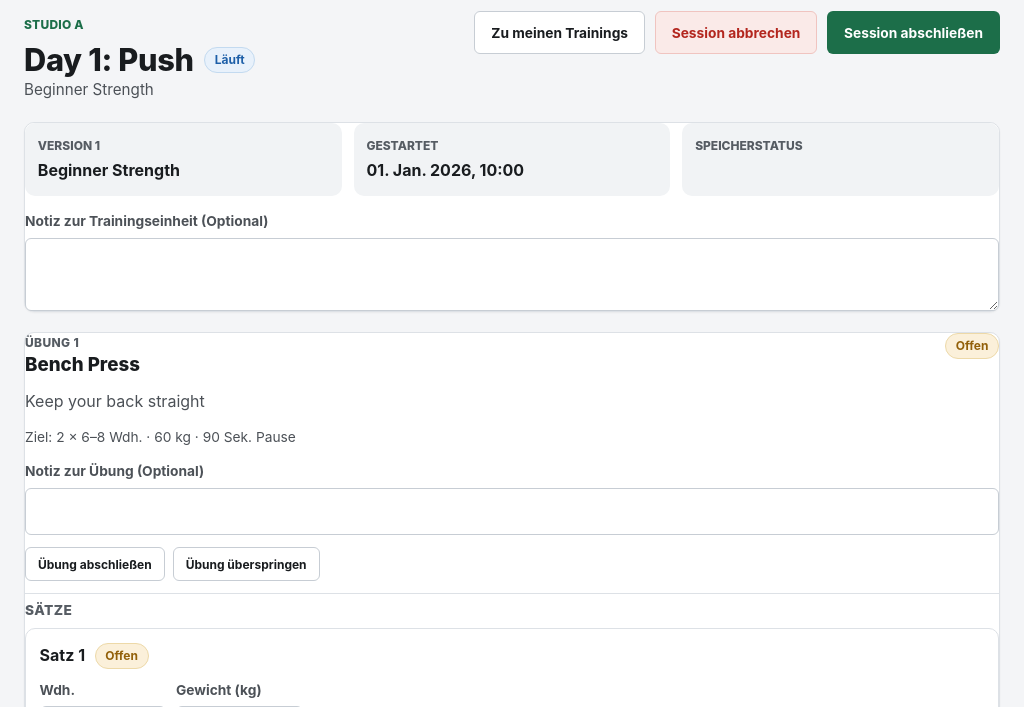
WorkoutSessionView › on WORKOUT_SESSION_INCOMPLETE, closes the dialog, shows a summary, and highlights the first open exercise
The image size is (1024, 707).
Click the button "Session abschließen" at (914, 33), box [827,11,1000,54]
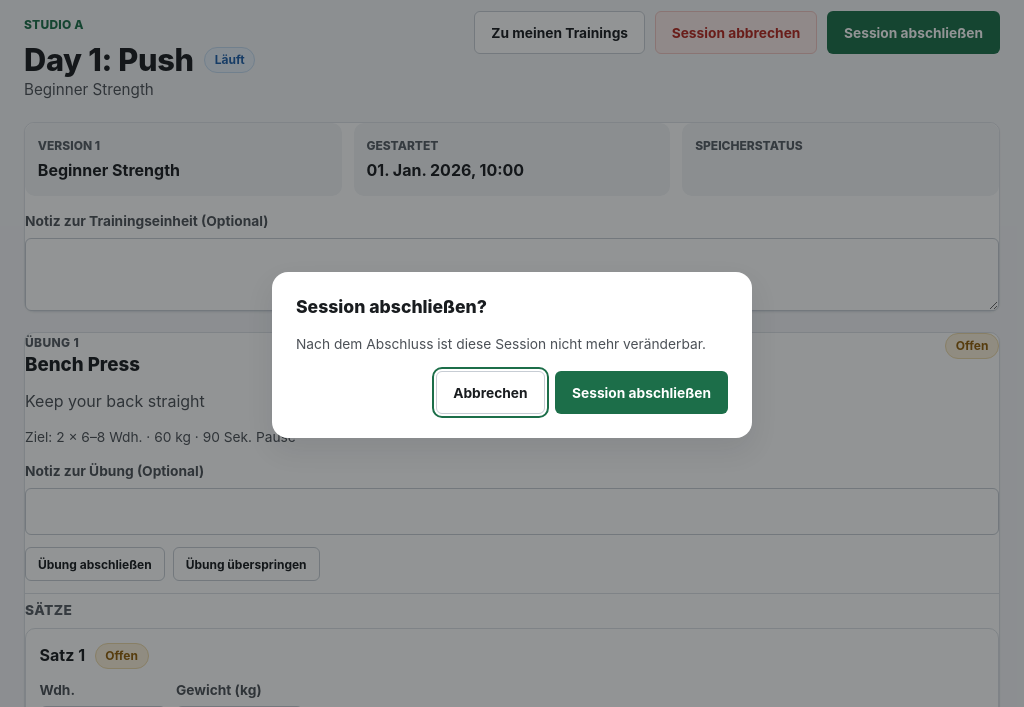
Click the button "Session abschließen" at (642, 393), box [555,371,728,414]
(page scrolled)
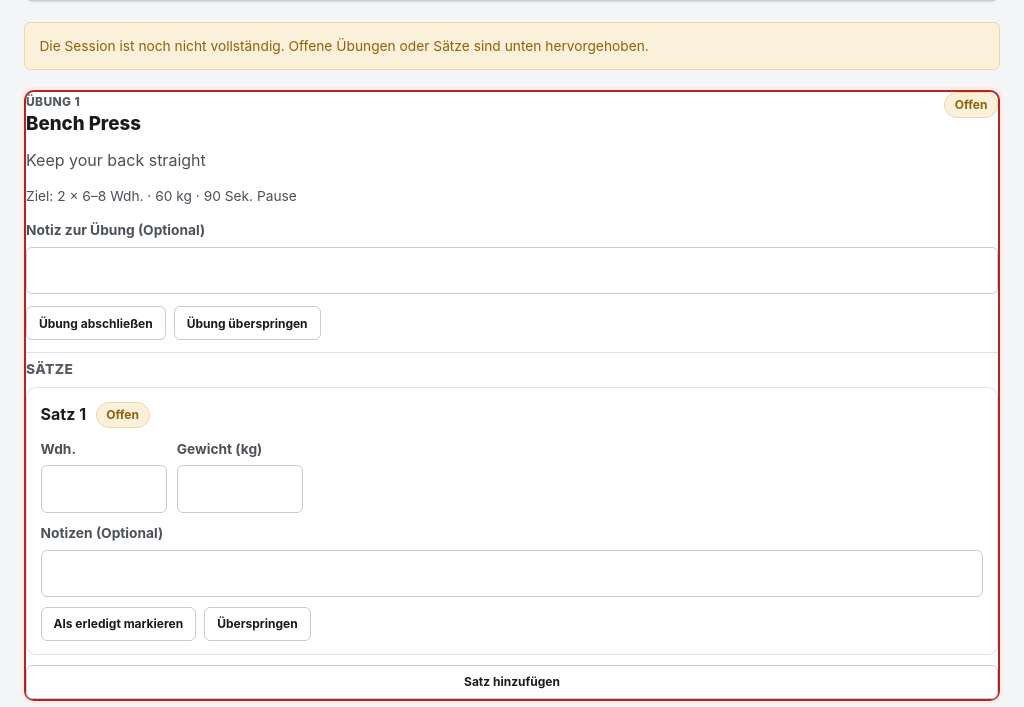
Now the dialog is gone
Now the text "Die Session ist noch nicht vollständig" is shown, box [39,38,649,54]
